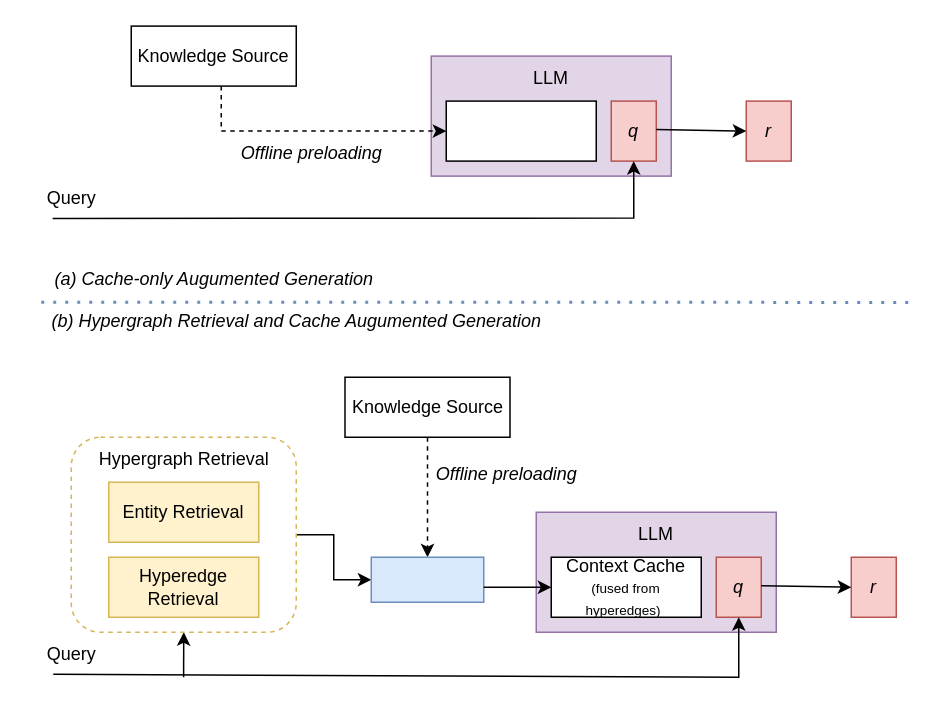
The diagram is 939 pixels wide and 717 high, and some of its shapes have lost their labels. The shapes that lost their labels are listed below. From the top down, each one's box as (x1, y1, x2, y2) in pixels, then its label:
(445, 100, 596, 161): Context Cache
(370, 556, 484, 602): Hypergraph Cache
